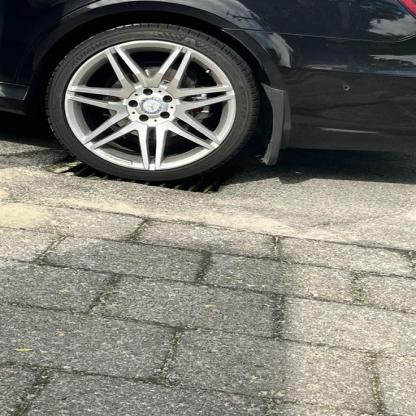Tire: (45, 26, 264, 183)
